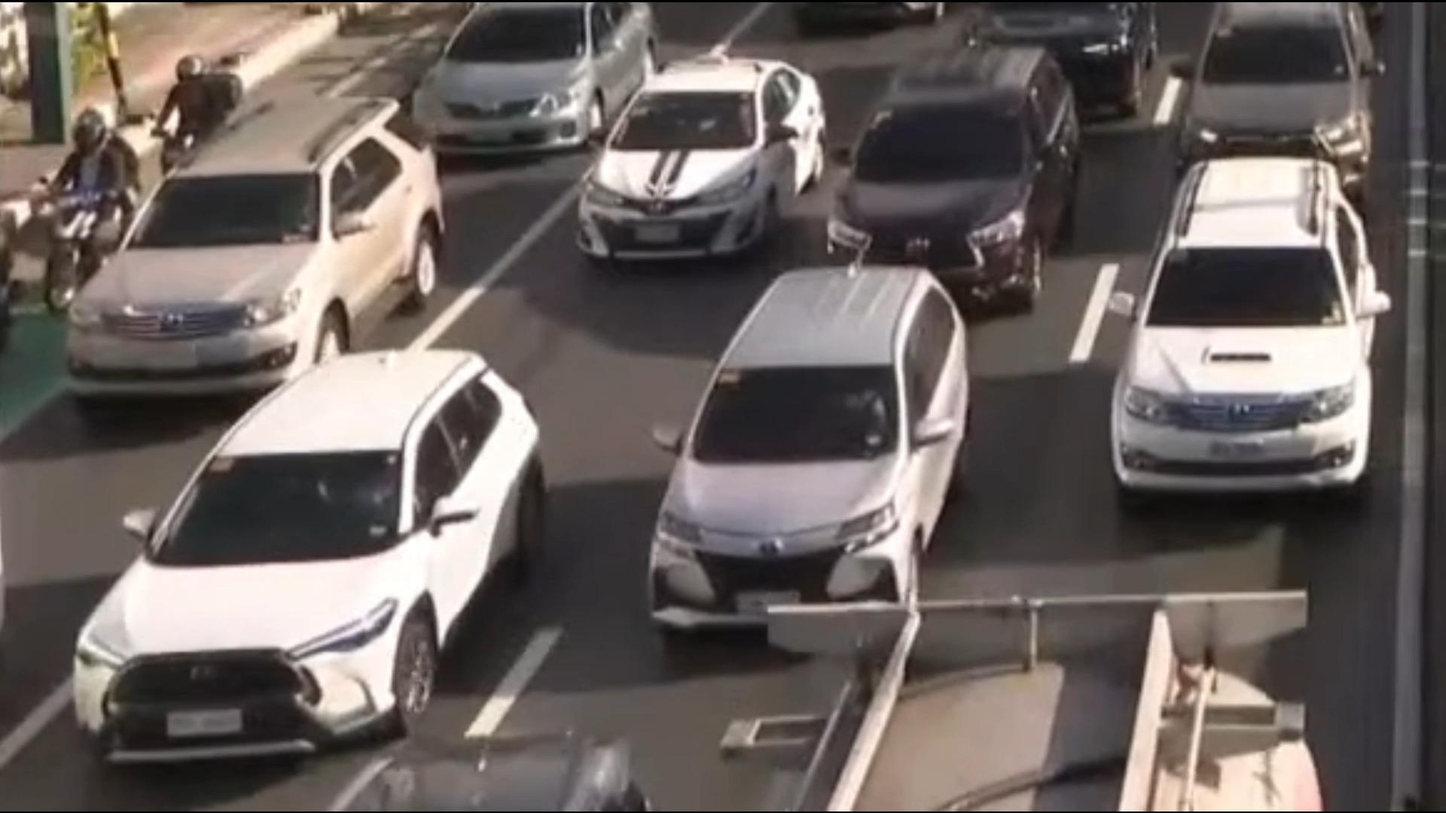Motorcycle: (42, 91, 145, 301), (147, 44, 245, 193)
SUV: (0, 337, 571, 770), (622, 262, 995, 645), (1070, 151, 1416, 520), (64, 89, 454, 411), (802, 46, 1104, 303), (1149, 0, 1390, 203), (397, 0, 661, 166)
Sedan: (560, 47, 836, 259)
